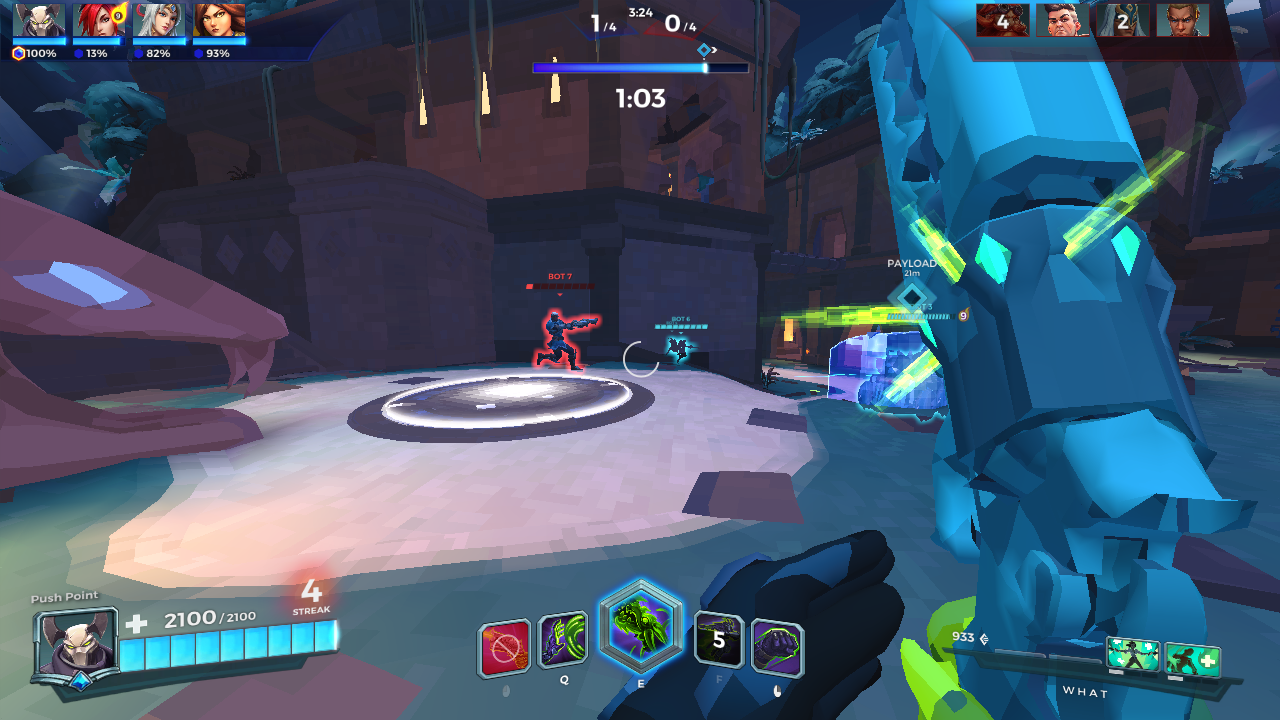model: (537, 309, 595, 384)
